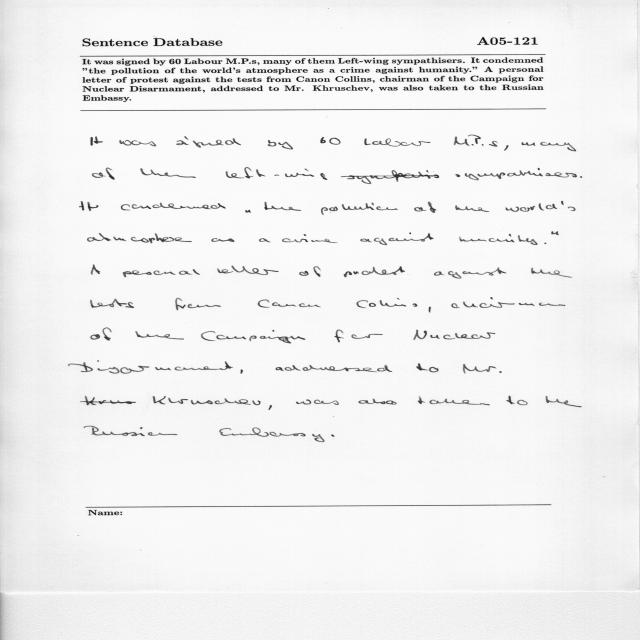word: (69, 361, 233, 374), (219, 427, 325, 442), (455, 168, 577, 180), (341, 170, 439, 184), (201, 330, 305, 343), (226, 167, 327, 180), (454, 135, 535, 151), (451, 297, 565, 308), (87, 233, 192, 243), (153, 396, 261, 405), (84, 426, 178, 436), (321, 203, 397, 215), (360, 233, 434, 245), (459, 234, 538, 245), (121, 203, 226, 211), (414, 330, 496, 340), (276, 365, 393, 372), (434, 268, 507, 279), (176, 136, 241, 148), (506, 201, 576, 212), (344, 267, 405, 278), (418, 397, 490, 406), (334, 330, 383, 343), (123, 269, 200, 277), (218, 265, 279, 275), (357, 298, 417, 308), (140, 168, 196, 178), (175, 298, 221, 310), (364, 139, 431, 147), (258, 300, 321, 308), (282, 234, 337, 243), (81, 396, 136, 405), (135, 331, 184, 340), (531, 268, 572, 278), (546, 396, 582, 407), (463, 364, 502, 374), (91, 299, 134, 308), (265, 202, 302, 211), (541, 142, 577, 151), (92, 167, 115, 180), (91, 328, 112, 341), (296, 399, 339, 405), (414, 202, 436, 213), (299, 266, 321, 277), (455, 205, 489, 212), (358, 399, 397, 405), (268, 140, 293, 149), (119, 140, 156, 146), (416, 364, 439, 373), (506, 396, 528, 405), (80, 201, 99, 211), (321, 137, 341, 145), (91, 137, 103, 146), (212, 238, 235, 242), (91, 265, 100, 275), (259, 238, 271, 242), (551, 232, 559, 235), (268, 405, 272, 410), (245, 210, 251, 213), (428, 307, 431, 313), (240, 370, 243, 374), (331, 434, 335, 437), (580, 176, 582, 178), (545, 243, 547, 244)
